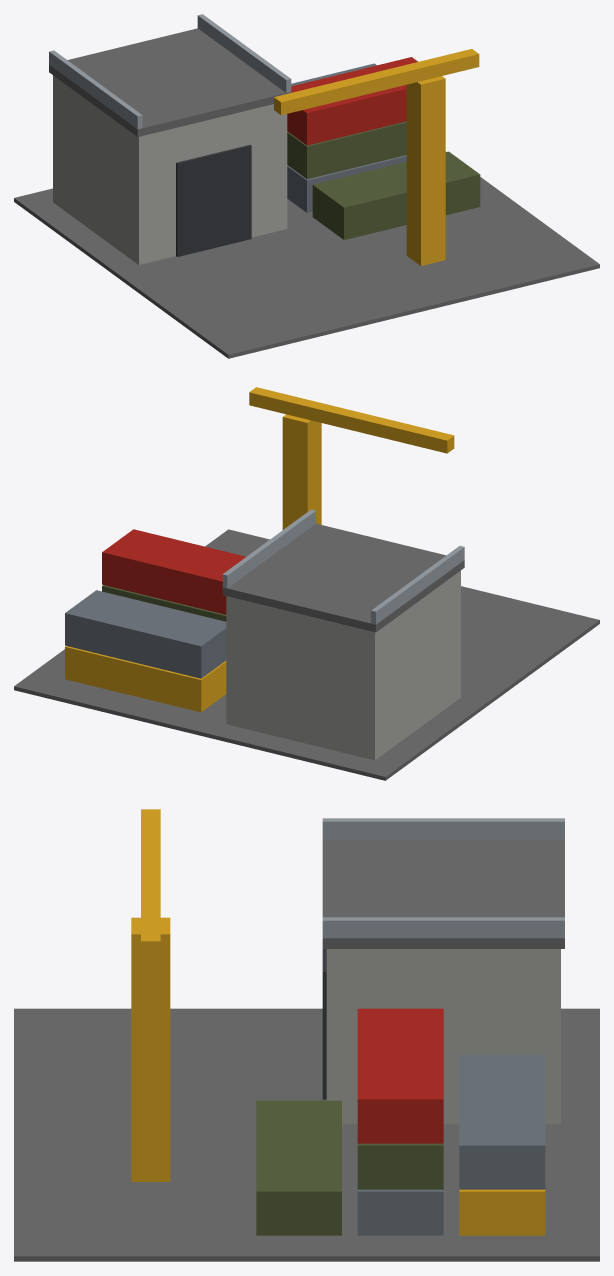
Rendered from bld_special_logistics_depot_a07.glb.
3 views of the same model, one above another, from view 1: azimuth 30°, elevation 25°; view 2: azimuth 150°, elevation 25°; view 3: azimuth 270°, elevation 25° (orthographic). The views are drawn at different scales.
Parts seen in each view (by area): view 1: body, crane; view 2: body, crane; view 3: body, crane.
Part boxes in pixels (box(x1,y1,x2,y2)): body: box(14, 14, 599, 358); crane: box(274, 49, 479, 265); body: box(14, 509, 599, 780); crane: box(249, 387, 454, 529); body: box(14, 818, 599, 1261); crane: box(131, 809, 170, 1181).
Size of what is drawn, in the model's own units: 15 by 7.65 by 15.
